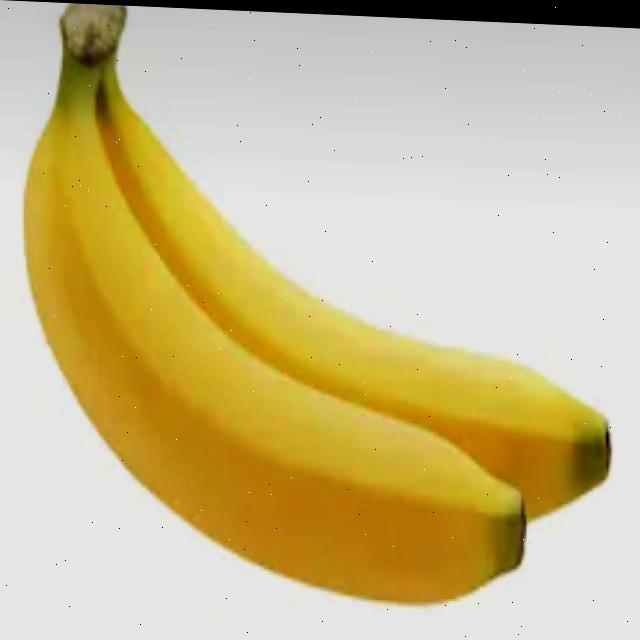banana: (23, 103, 589, 623)
